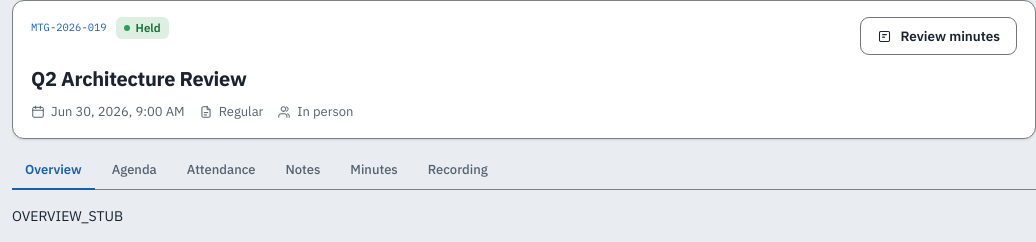
MeetingPage — meeting shell (P6a IA) › the Held primary action navigates to its destination
This screenshot has width=1036, height=242.
Step 1. Click the button "Review minutes" → click(939, 36), box [860,17,1017,55]
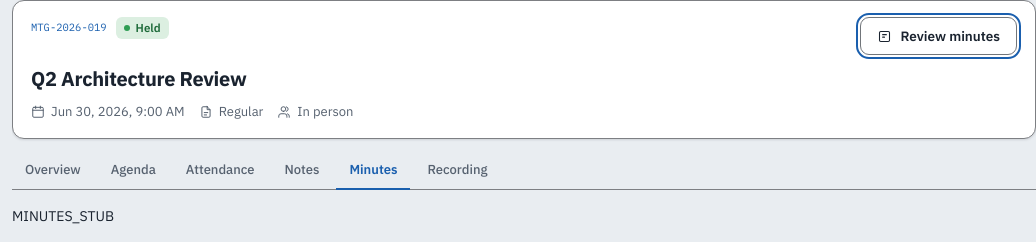
expect the text "MINUTES_STUB" is shown: met, box [12,207,114,225]
